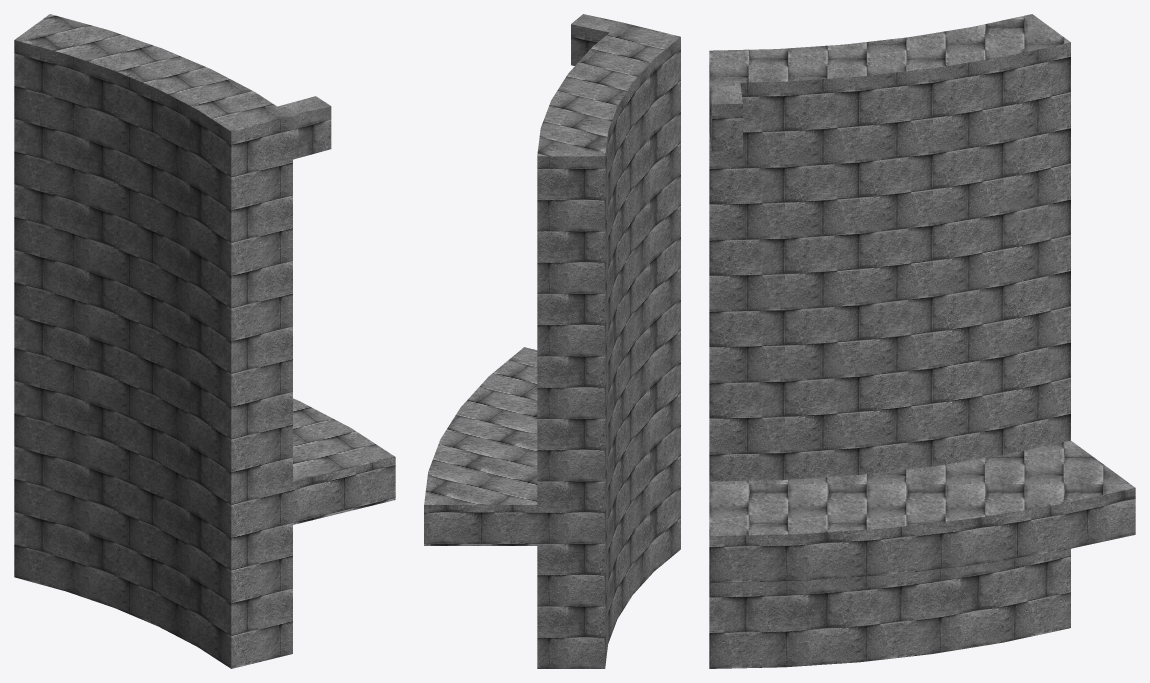
Rendered from tile1.dae.
3 views of the same model, side by side, from view 1: azimuth 30°, elevation 25°; view 2: azimuth 150°, elevation 25°; view 3: azimuth 270°, elevation 25° (orthographic). The views are drawn at different scales.
Parts seen in each view (by area): view 1: SketchUp (×2); view 2: SketchUp (×2); view 3: SketchUp (×2).
Part boxes in pixels (bbox=[...]): SketchUp (×2): bbox=[14, 14, 395, 668]; SketchUp (×2): bbox=[424, 14, 680, 668]; SketchUp (×2): bbox=[709, 14, 1135, 668].
Bounding box in the file's own units: 44.68 × 64.96 × 98.43.
1 material, 1 textured.
